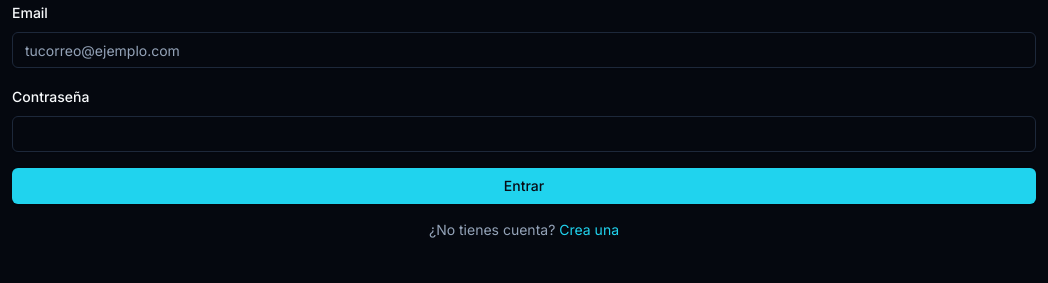
LoginForm › muestra un error inline si el email no es válido
Type "no-es-un-email" into the field labelled "Email" at {"x": 524, "y": 50}, box [12, 32, 1036, 68]
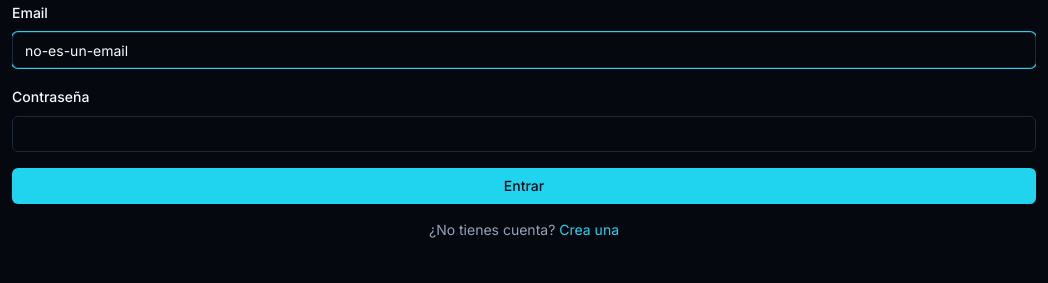
Type "algo" into the password field labelled "Contraseña" at {"x": 524, "y": 134}, box [12, 116, 1036, 152]
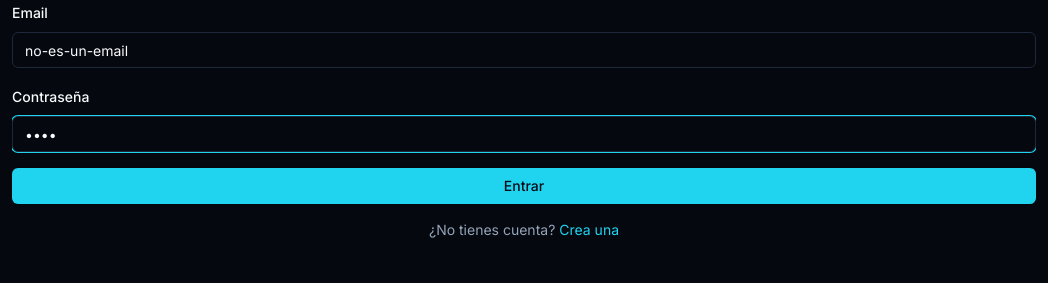
Click the button "Entrar" at {"x": 524, "y": 186}, box [12, 168, 1036, 204]
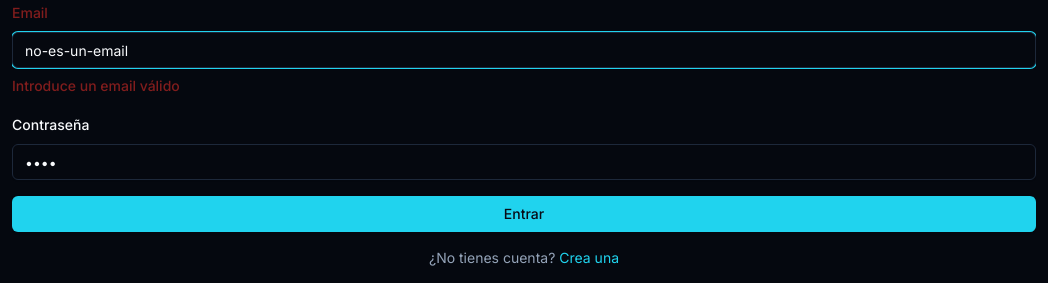
Now the text "Introduce un email válido" is shown, box [12, 77, 180, 94]
